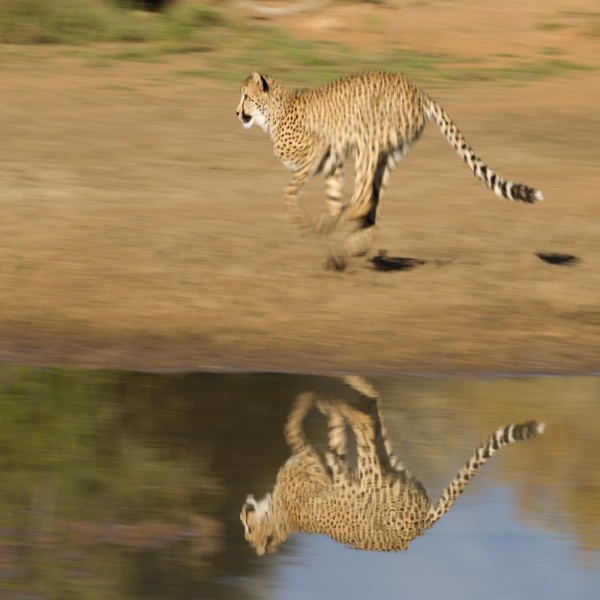Cheetah: (233, 69, 547, 276)
